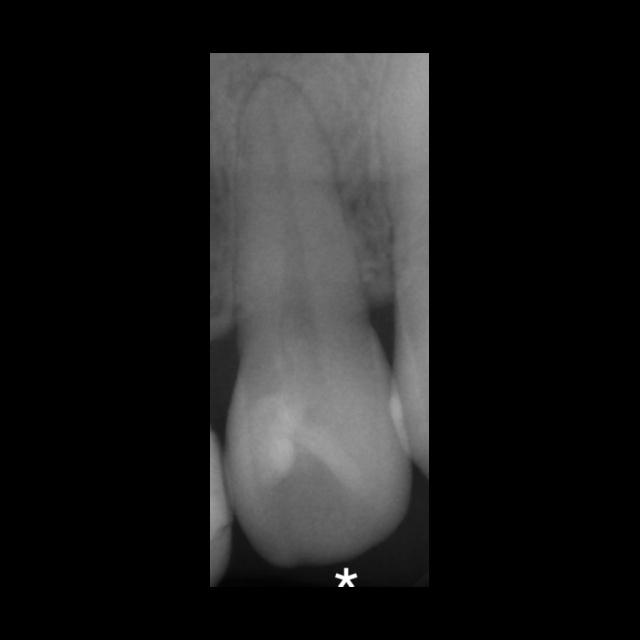tooth: (225, 73, 415, 574)
